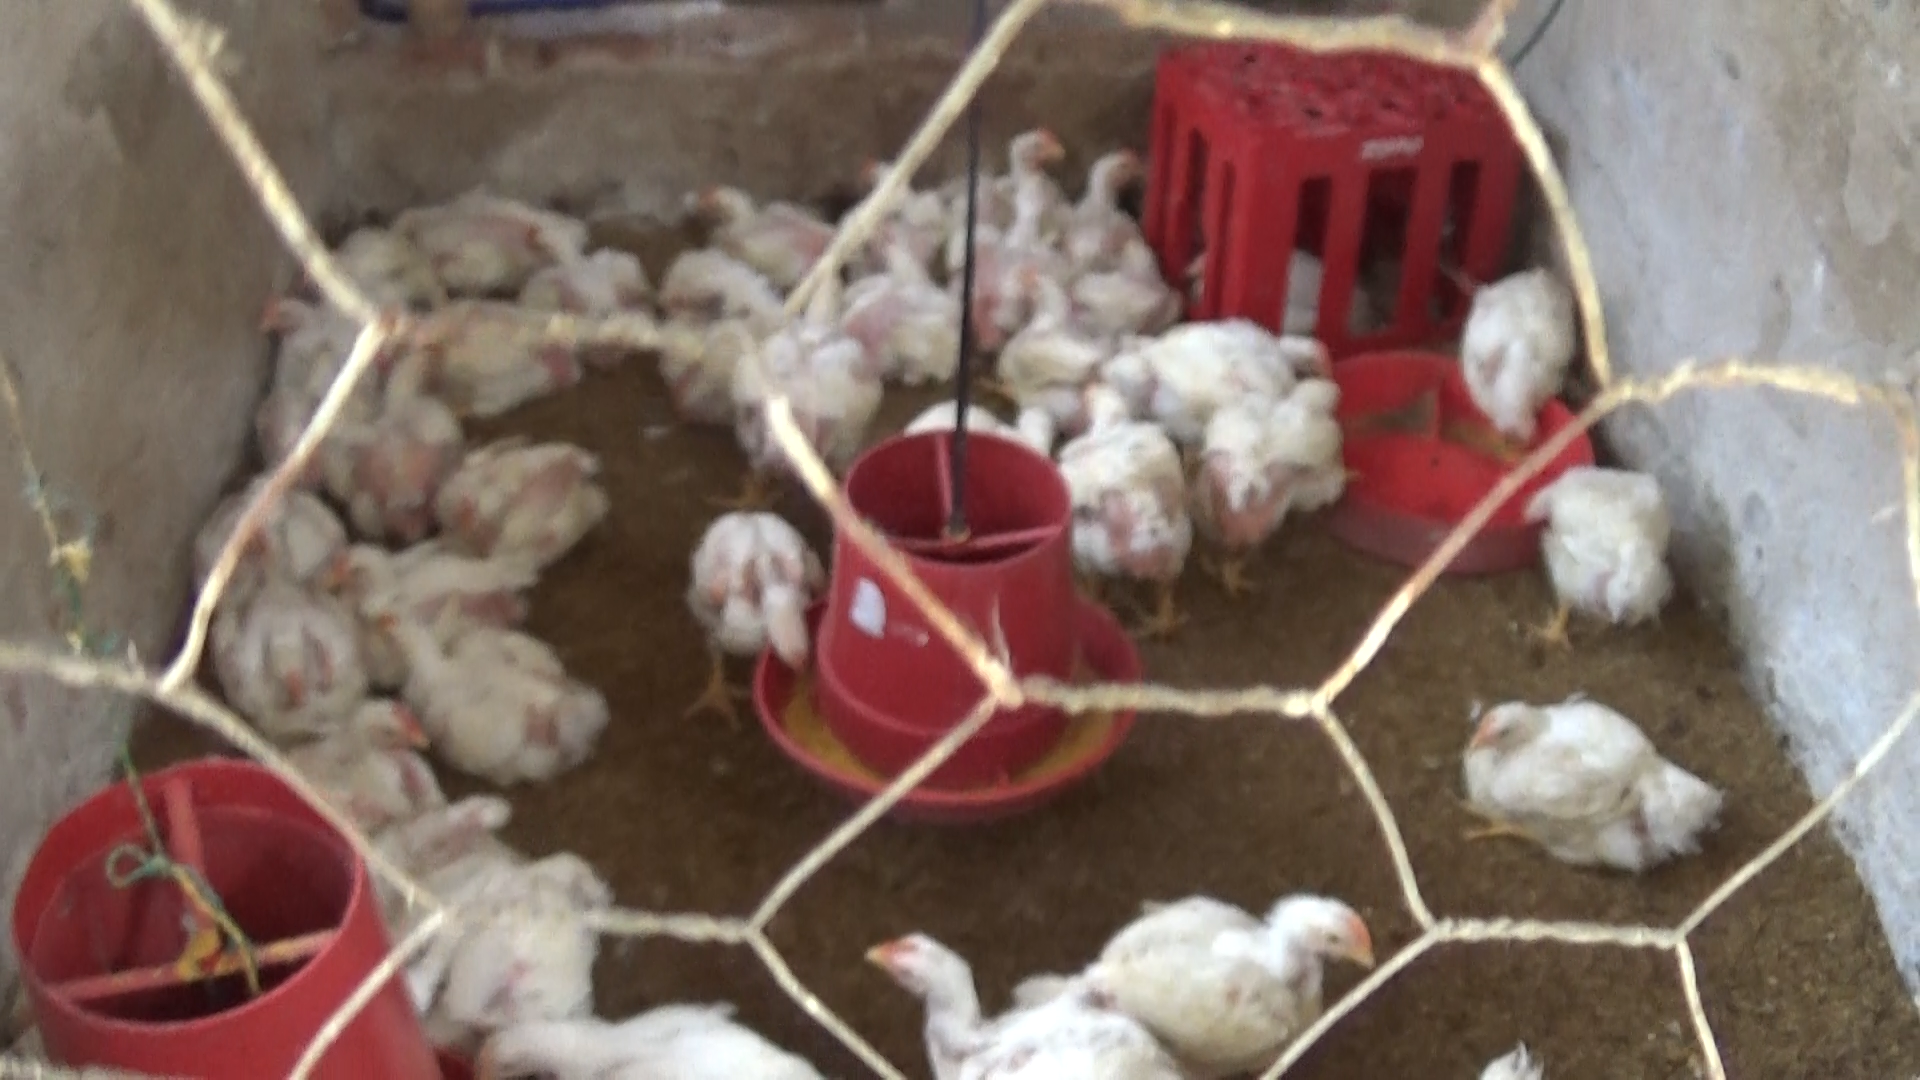Pollos: (1069, 880, 1385, 1065), (1452, 694, 1730, 889), (847, 923, 1191, 1080), (363, 604, 622, 789), (1042, 382, 1212, 649), (1178, 375, 1352, 603), (1520, 448, 1692, 658), (456, 988, 825, 1080), (671, 506, 825, 719), (1113, 309, 1338, 440), (309, 522, 541, 642), (1461, 257, 1590, 469), (390, 301, 589, 425), (512, 218, 669, 375), (247, 274, 373, 462), (429, 431, 617, 556), (272, 692, 448, 823), (208, 576, 373, 716), (199, 473, 351, 624), (990, 261, 1122, 430), (669, 177, 849, 285), (840, 222, 959, 377), (409, 191, 585, 284), (1069, 140, 1151, 334), (986, 169, 1083, 328), (957, 113, 1069, 229)
